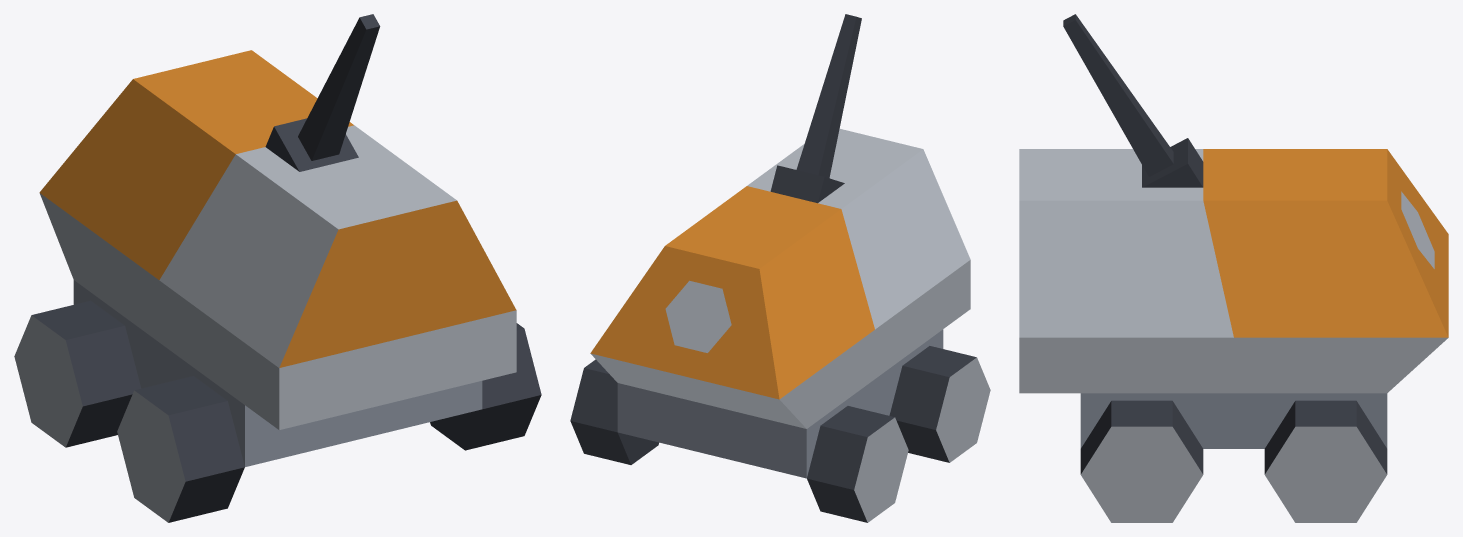
The model's file is rover.glb.
3 renders of one model, left to right at view 1: azimuth 30°, elevation 25°; view 2: azimuth 150°, elevation 25°; view 3: azimuth 270°, elevation 25°, orthographic. The views are drawn at different scales.
Visible parts, largest first — view 1: geometry_0; view 2: geometry_0; view 3: geometry_0.
Part boxes in pixels (box(x1,y1,x2,y2)): geometry_0: box(14, 14, 541, 522); geometry_0: box(570, 14, 990, 522); geometry_0: box(1019, 14, 1448, 522).
Bounding box in the file's own units: 0.7109 × 0.913 × 0.8294.
